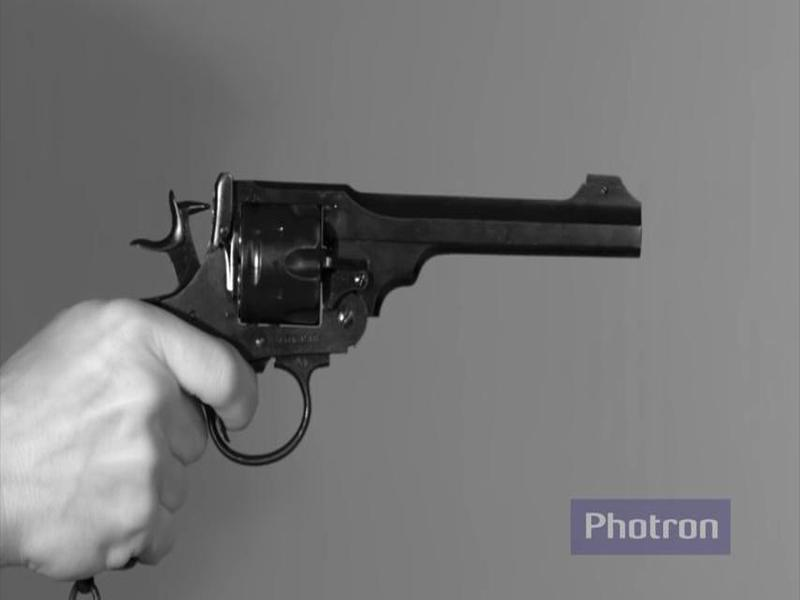Revolver: (127, 153, 703, 469)
